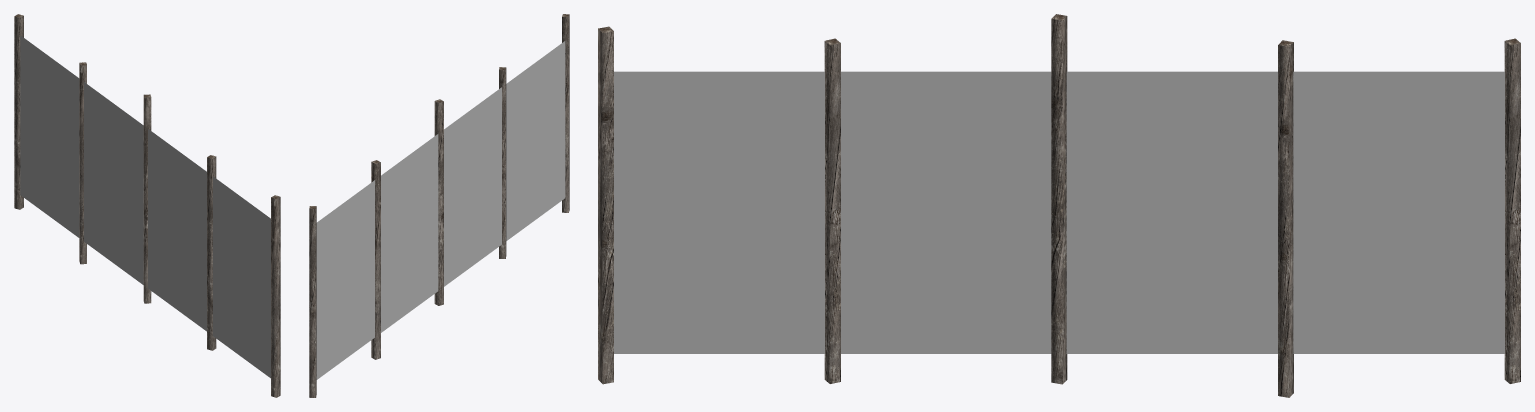
The model's file is Fence3_LOD2.fbx.
The picture shows the model from 3 angles, left to right: view 1: azimuth 30°, elevation 25°; view 2: azimuth 150°, elevation 25°; view 3: azimuth 270°, elevation 25°; orthographic projection. The views are drawn at different scales.
Visible parts, largest first — view 1: obj3_polySurface8; view 2: obj3_polySurface8; view 3: obj3_polySurface8.
Boxes of the visible parts, x1,y1,x2,y2 form: obj3_polySurface8: (14, 14, 280, 397); obj3_polySurface8: (309, 14, 569, 397); obj3_polySurface8: (598, 14, 1520, 397).
Size of the model in its own units: 0.1095 by 2.8 by 6.21.
